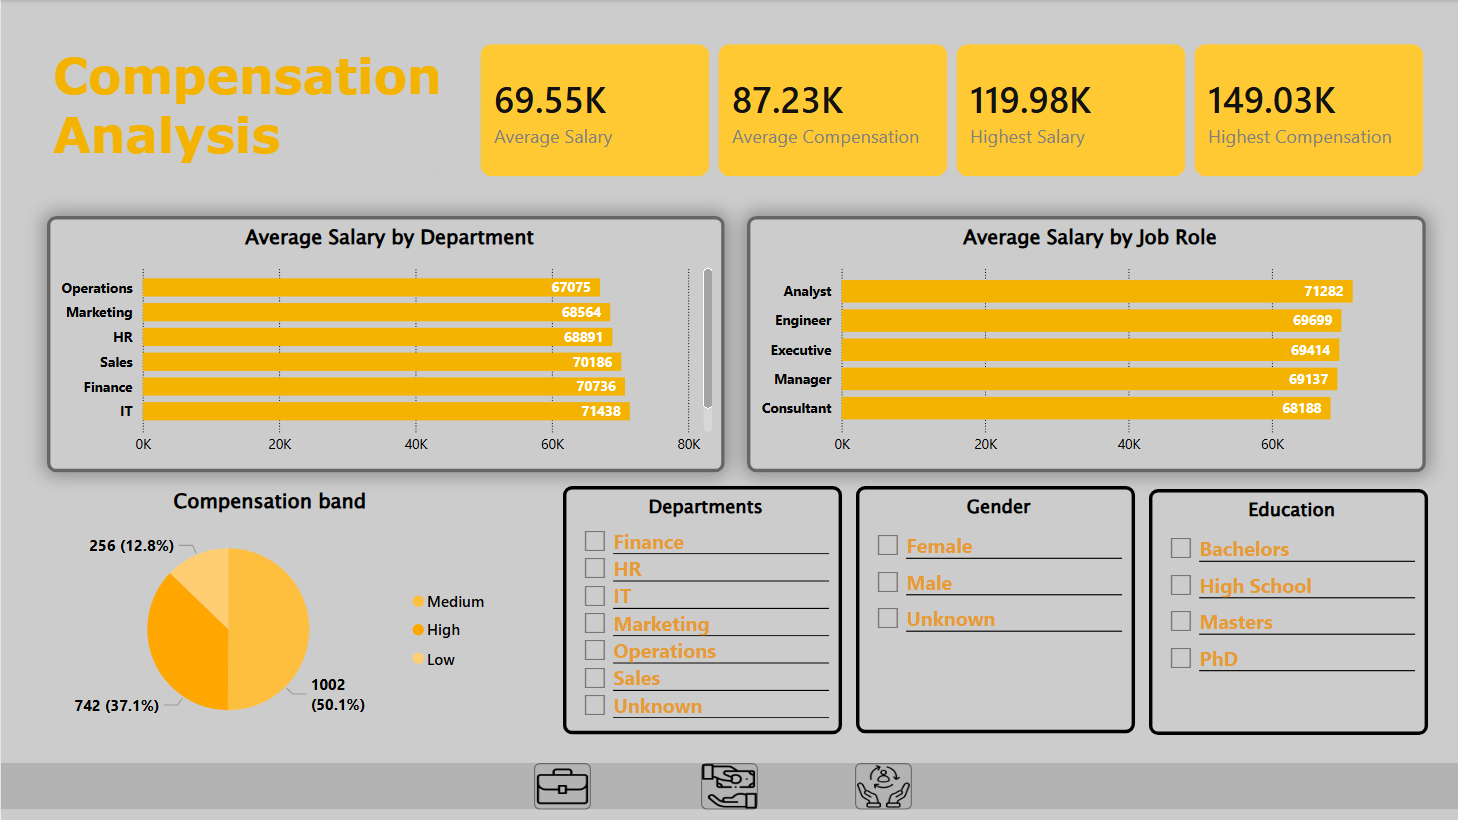

This screenshot's page, from the dashboard's own definition file:
{"tool":"powerbi","page":{"name":"Compensation","canvas":[1280,720],"ordinal":1},"visuals":[{"type":"textbox","title":"Compensation Analysis","box":[40,39.1,351.8,115.5],"z":0},{"type":"shape","box":[0,670,1280,40.9],"z":1000},{"type":"cardVisual","fields":{"Data":["HR Dataset - Cleaned.Average Salary","HR Dataset - Cleaned.Average Compensation","HR Dataset - Cleaned.Highest Salary","HR Dataset - Cleaned.Highest Compensation"]},"box":[403.6,21.8,862.7,150],"z":2000},{"type":"barChart","fields":{"Y":["HR Dataset - Cleaned.Average Salary"],"Category":["HR Dataset - Cleaned.Department"]},"box":[40,190,595.5,224.5],"z":3000},{"type":"barChart","title":"Average Salary by Job Role","fields":{"Category":["HR Dataset - Cleaned.JobRole"],"Y":["HR Dataset - Cleaned.Average Salary"]},"box":[655.5,190,596.4,224.5],"z":4000},{"type":"pieChart","title":"Compensation band","fields":{"Category":["HR Dataset - Cleaned.Compensation band"],"Y":["CountNonNull(HR Dataset - Cleaned.EmployeeID)"]},"box":[33.6,426.4,405.5,224.5],"z":5000},{"type":"slicer","title":"Departments","fields":{"Values":["HR Dataset - Cleaned.Department"]},"box":[493.6,426.4,244.5,218.2],"z":6000},{"type":"slicer","title":"Gender","fields":{"Values":["HR Dataset - Cleaned.Gender"]},"box":[750.9,426.4,244.5,217.3],"z":7000},{"type":"slicer","title":"Education","fields":{"Values":["HR Dataset - Cleaned.Education"]},"box":[1008.2,429.1,244.5,216.4],"z":8000},{"type":"actionButton","box":[468.2,670,50,40.9],"z":9000},{"type":"actionButton","box":[614.5,670,50,40.9],"z":10000},{"type":"actionButton","box":[750,670,50,40.9],"z":11000}]}

Visuals, with their boxes in screenshot pixels (x1, y1, x2, y2), scaled from the page's 1280x720 canvas onto the 1458x820 screenshot:
"Compensation Analysis" textbox: 46 45 446 176
shape: 0 763 1457 810
cardVisual - HR Dataset - Cleaned.Average Salary x HR Dataset - Cleaned.Average Compensation: 460 25 1442 196
barChart - HR Dataset - Cleaned.Average Salary x HR Dataset - Cleaned.Department: 46 216 724 472
"Average Salary by Job Role" barChart: 747 216 1426 472
"Compensation band" pieChart: 38 486 500 741
"Departments" slicer: 562 486 841 734
"Gender" slicer: 855 486 1134 733
"Education" slicer: 1148 489 1427 735
actionButton: 533 763 590 810
actionButton: 700 763 757 810
actionButton: 854 763 911 810
